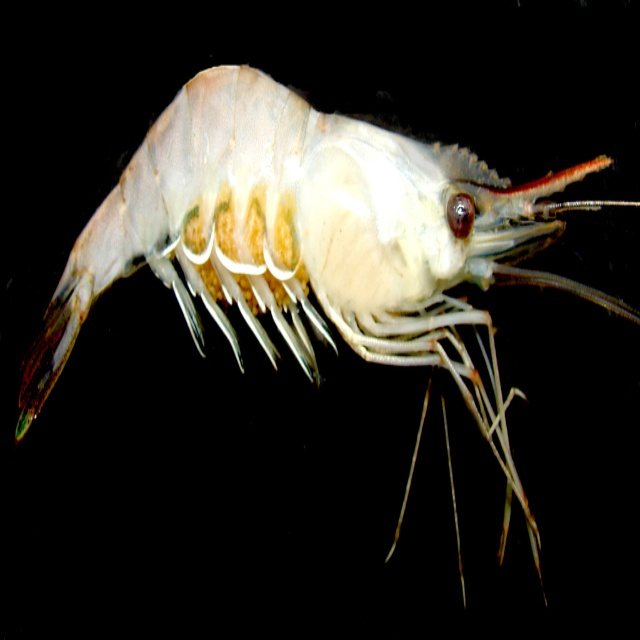Shrimp: (16, 60, 640, 605)
